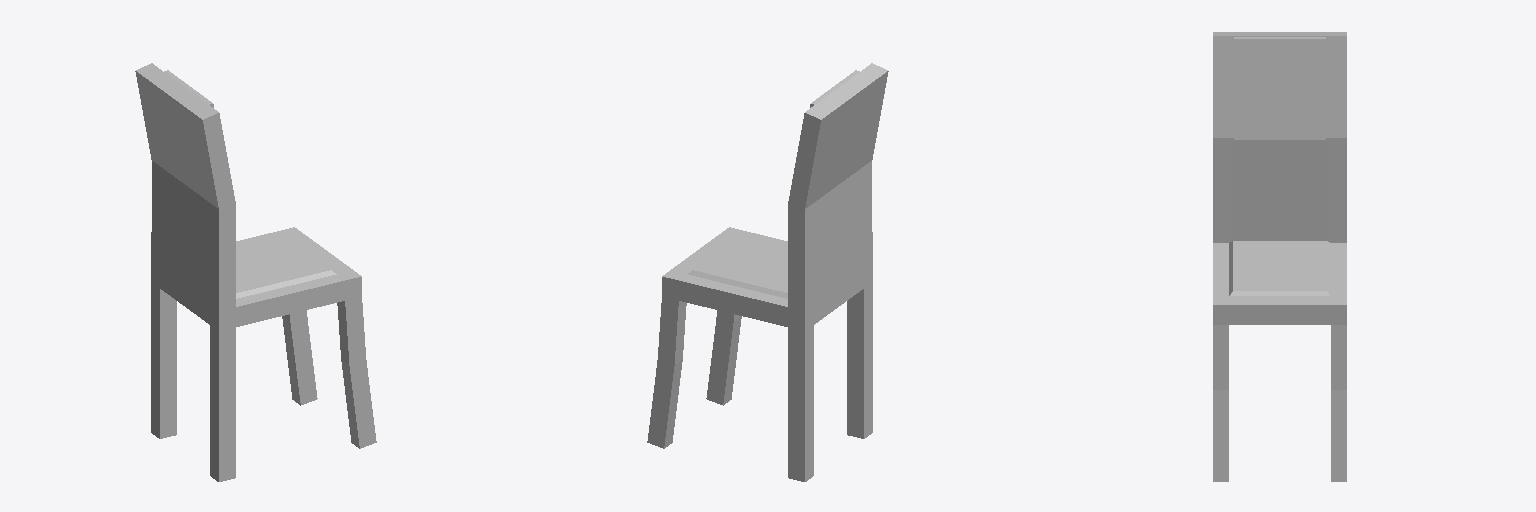
Rendered from Krzeslo.obj.
3 renders of one model, left to right at view 1: azimuth 30°, elevation 25°; view 2: azimuth 150°, elevation 25°; view 3: azimuth 270°, elevation 25°, orthographic.
Parts seen in each view (by area): view 1: Cube; view 2: Cube; view 3: Cube.
Part boxes in pixels (x1,y1,x2,y2): Cube: (135, 63, 376, 481); Cube: (647, 63, 888, 481); Cube: (1213, 32, 1346, 481).
Bounding box in the file's own units: 0.9411 × 1.92 × 0.6313.